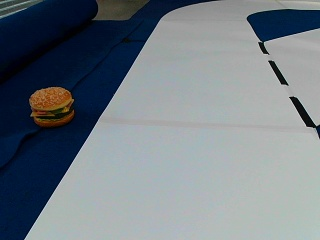burger: (28, 86, 74, 126)
